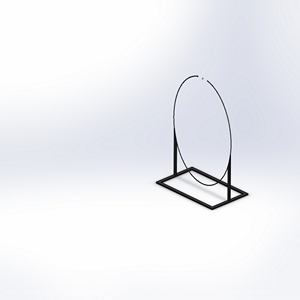circle: (155, 73, 249, 210)
